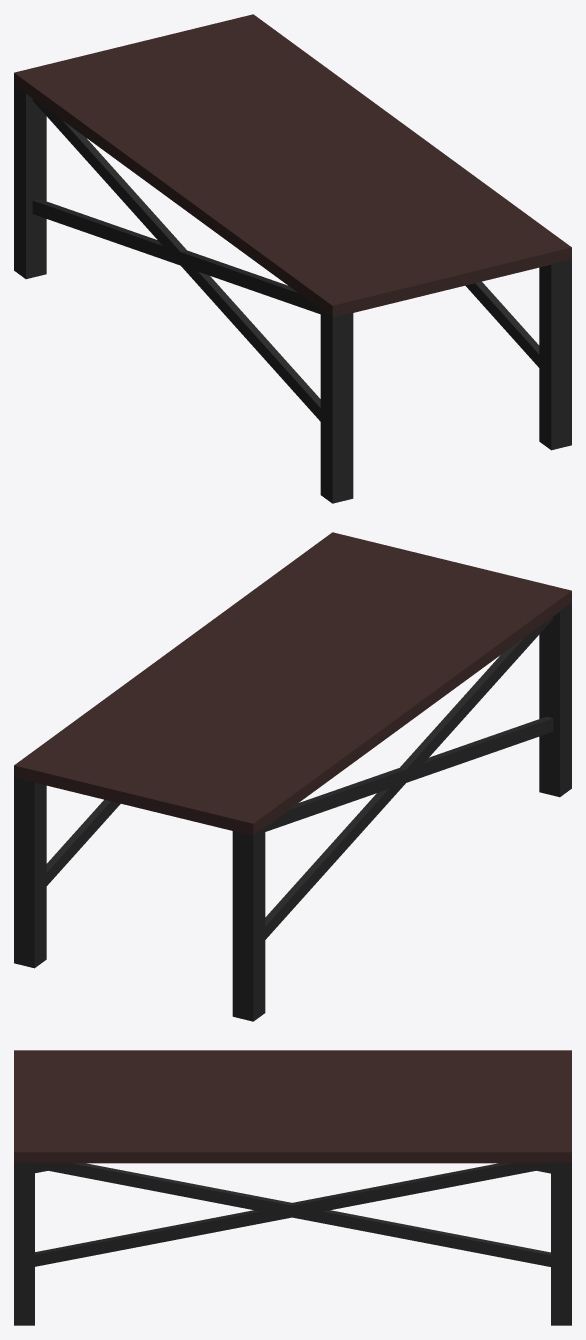
File: GrandeTable_26.fbx
The picture shows the model from 3 angles, top to bottom: view 1: azimuth 30°, elevation 25°; view 2: azimuth 150°, elevation 25°; view 3: azimuth 270°, elevation 25°; orthographic projection. The views are drawn at different scales.
Parts seen in each view (by area): view 1: pCube64, pCube66, pCube65, pCube73, pCube67, pCube74, pCube72; view 2: pCube64, pCube67, pCube68, pCube74, pCube66, pCube73, pCube69; view 3: pCube64, pCube69, pCube72, pCube68, pCube65.
Part boxes in pixels (bbox=[...]): pCube64: bbox=[14, 14, 571, 317]; pCube66: bbox=[320, 309, 353, 503]; pCube65: bbox=[539, 259, 571, 450]; pCube73: bbox=[32, 99, 320, 421]; pCube67: bbox=[14, 84, 46, 279]; pCube74: bbox=[32, 199, 320, 314]; pCube72: bbox=[465, 281, 539, 367]; pCube64: bbox=[14, 532, 571, 835]; pCube67: bbox=[232, 827, 265, 1021]; pCube68: bbox=[14, 777, 46, 968]; pCube74: bbox=[265, 617, 553, 939]; pCube66: bbox=[539, 602, 571, 797]; pCube73: bbox=[265, 716, 553, 831]; pCube69: bbox=[46, 799, 120, 885]; pCube64: bbox=[14, 1050, 571, 1163]; pCube69: bbox=[35, 1163, 550, 1266]; pCube72: bbox=[35, 1163, 550, 1266]; pCube68: bbox=[551, 1162, 571, 1325]; pCube65: bbox=[14, 1162, 34, 1325].
Bounding box in the file's own units: 52.71 × 41.63 × 121.
